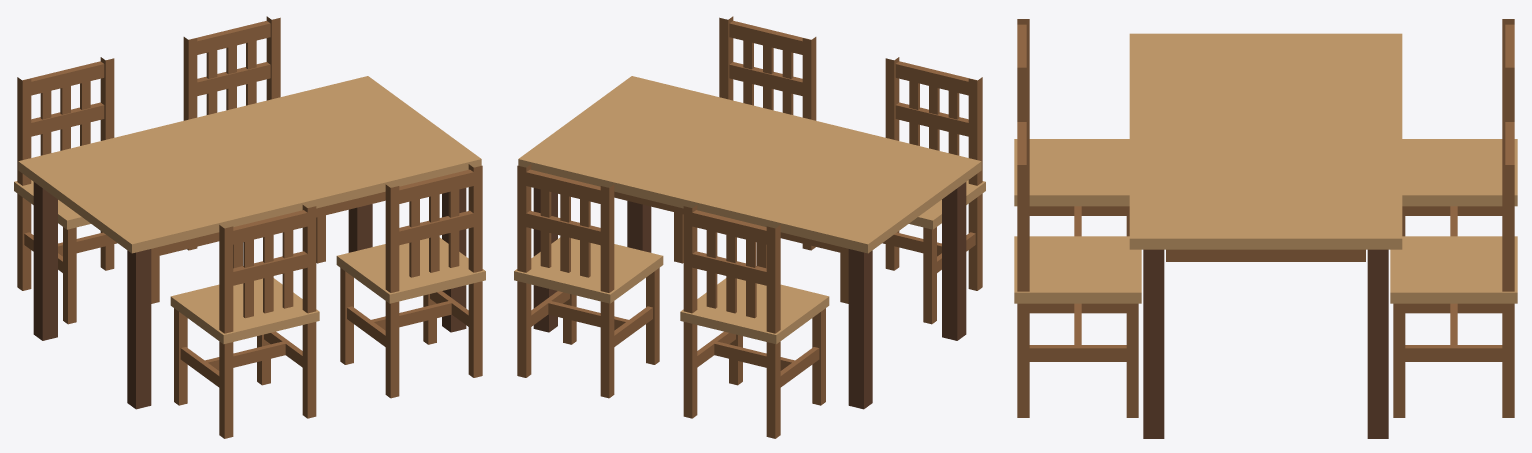
Rendered from conjunto-jantar.glb.
The picture shows the model from 3 angles, left to right: view 1: azimuth 30°, elevation 25°; view 2: azimuth 150°, elevation 25°; view 3: azimuth 270°, elevation 25°; orthographic projection. The views are drawn at different scales.
Parts seen in each view (by area): view 1: Tampo, PernasCadeiras, EncostoCadeiras, AssentoCadeiras, Pernas, Saia; view 2: Tampo, PernasCadeiras, EncostoCadeiras, AssentoCadeiras, Pernas, Saia; view 3: Tampo, AssentoCadeiras, PernasCadeiras, EncostoCadeiras, Pernas, Saia.
Boxes of the visible parts, x1,y1,x2,y2 form: Tampo: (18,76,481,253); PernasCadeiras: (17,16,482,438); EncostoCadeiras: (22,20,477,387); AssentoCadeiras: (14,180,485,344); Pernas: (33,182,466,409); Saia: (151,191,385,257); Tampo: (518,76,981,253); PernasCadeiras: (517,16,982,438); EncostoCadeiras: (522,20,977,387); AssentoCadeiras: (514,180,985,344); Pernas: (533,182,966,409); Saia: (614,191,848,254); Tampo: (1129,33,1402,249); AssentoCadeiras: (1014,139,1517,303); PernasCadeiras: (1017,19,1514,417); EncostoCadeiras: (1017,24,1514,361); Pernas: (1143,249,1388,438); Saia: (1166,249,1365,261).
Bounding box in the file's own units: 1.6 × 0.92 × 1.66.
